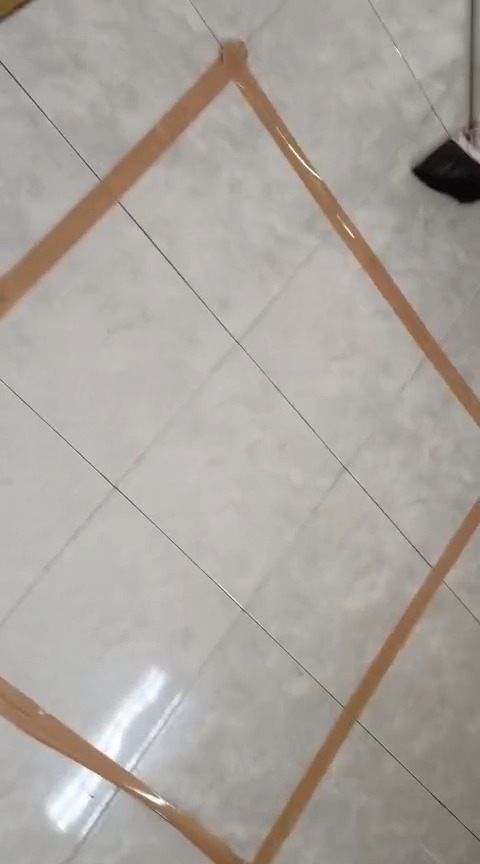floor marking: (2, 41, 479, 421), (251, 501, 479, 863), (0, 678, 245, 863)
